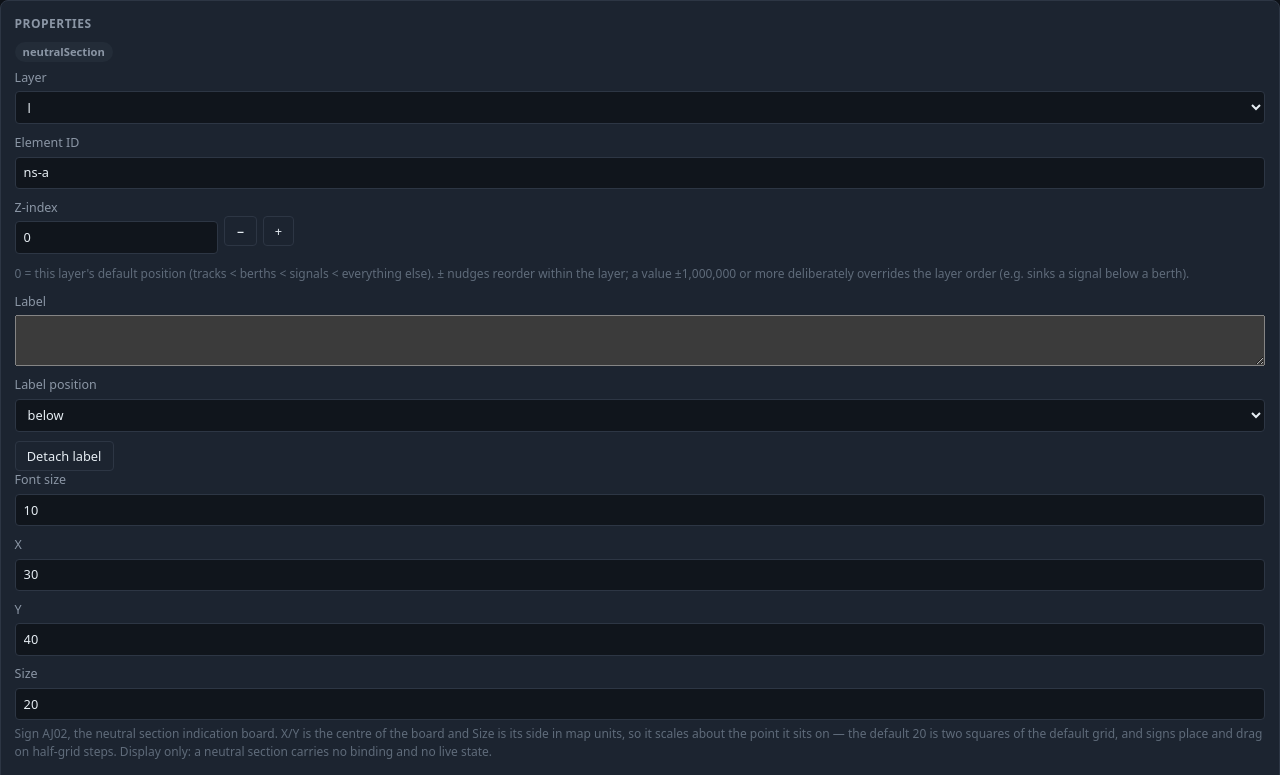
PropertyPanel neutral section fields (Milestone 53) › detaches the label where it already sits, then reattaches it
expect the dropdown labelled "Label position" is shown: met, box 15,399 -> 1265,432
expect the field labelled "Label offset X" is not shown: met
Click the button "Detach label" at (64, 456), box 15,441 -> 114,471
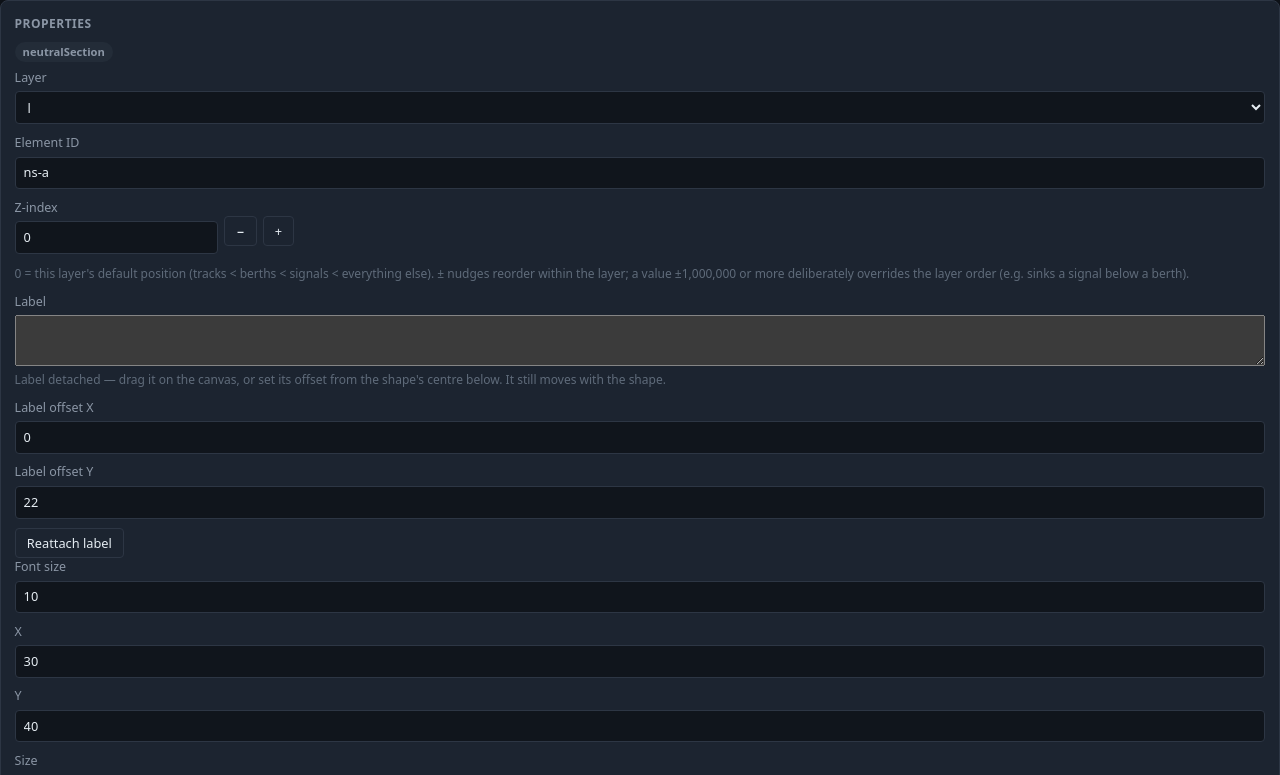
expect the number field labelled "Label offset X" holds "0": met, box 15,422 -> 1265,454
expect the number field labelled "Label offset Y" holds "22": met, box 15,486 -> 1265,518
expect the label labelled "Label position" is gone: met
Click the button "Reattach label" at (69, 543), box 15,528 -> 124,558
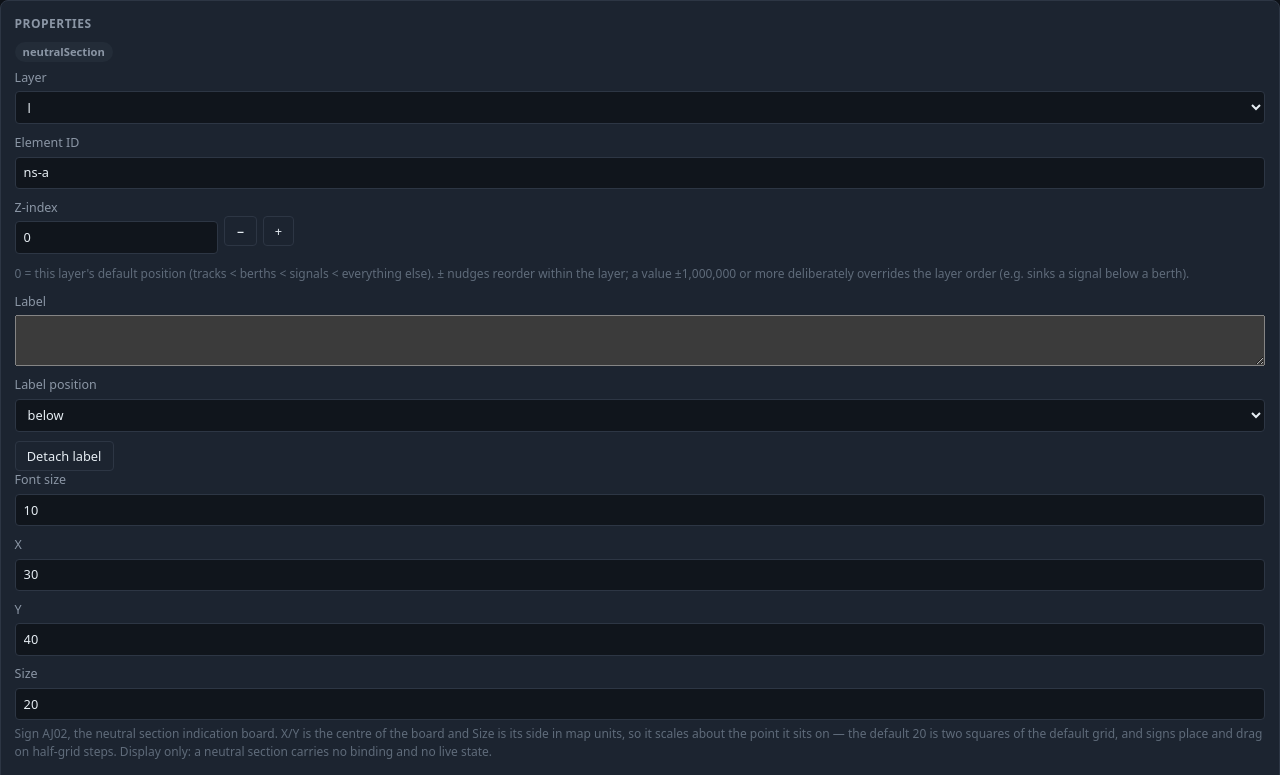
expect the dropdown labelled "Label position" is shown: met, box 15,399 -> 1265,432
expect the label labelled "Label offset X" is gone: met
